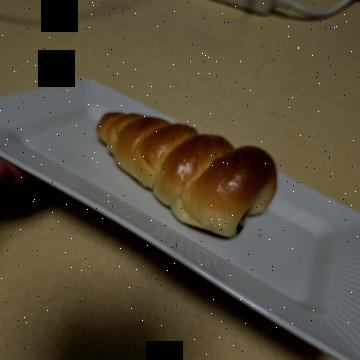cream horn: (87, 68, 241, 278)
